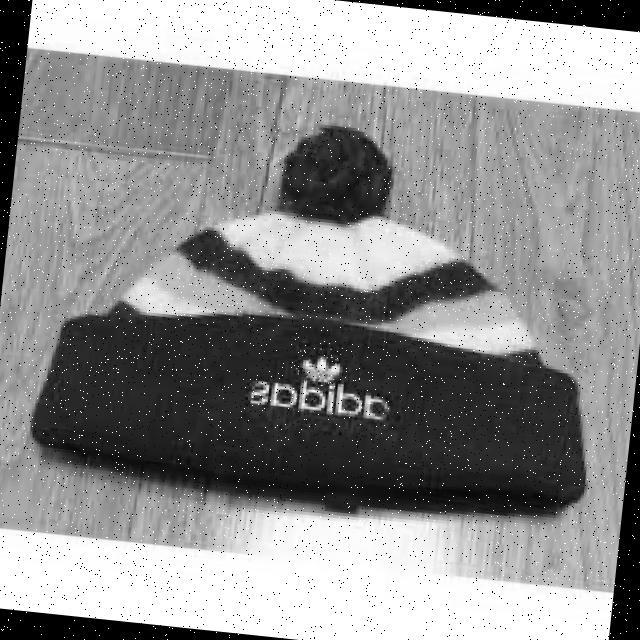Adidas: (295, 342, 353, 390)
